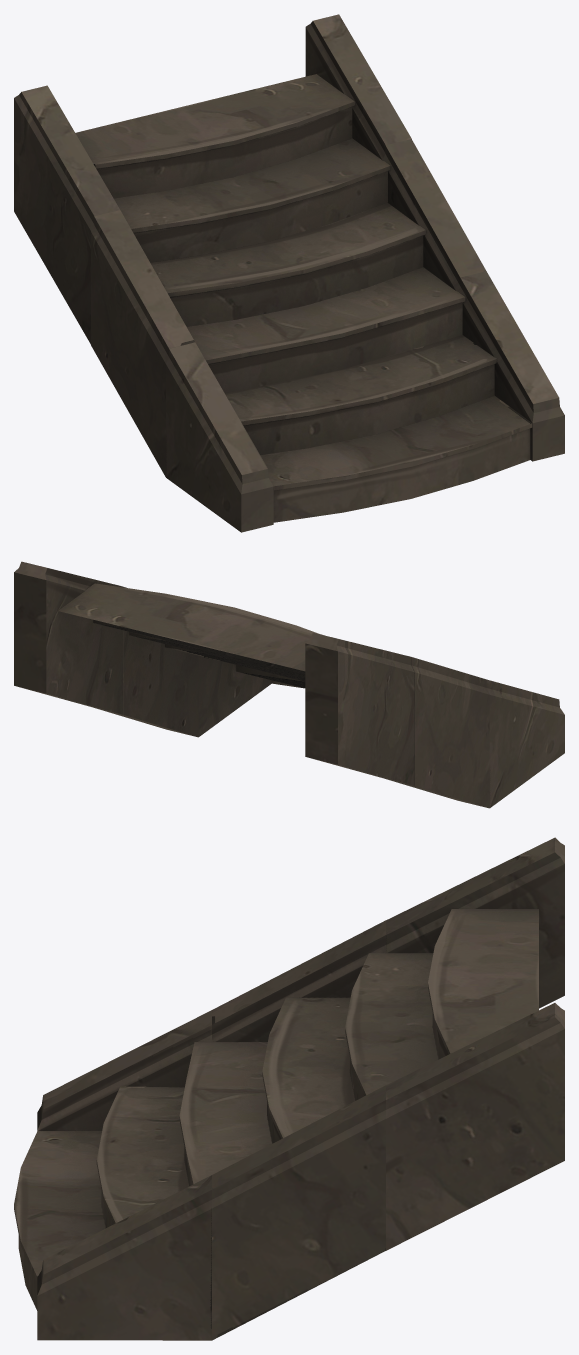
Rendered from ObjStair_1.fbx.
The picture shows the model from 3 angles, top to bottom: view 1: azimuth 30°, elevation 25°; view 2: azimuth 150°, elevation 25°; view 3: azimuth 270°, elevation 25°; orthographic projection. The views are drawn at different scales.
Visible parts, largest first — view 1: Obj_Stair_1_upend, Obj_Stair_1_downend, Obj_Stair_1_middle; view 2: Obj_Stair_1_upend, Obj_Stair_1_middle, Obj_Stair_1_downend; view 3: Obj_Stair_1_upend, Obj_Stair_1_middle, Obj_Stair_1_downend.
Part boxes in pixels (<box>): Obj_Stair_1_upend: <box>14,14,411,344</box>; Obj_Stair_1_downend: <box>166,271,564,532</box>; Obj_Stair_1_middle: <box>91,139,486,476</box>; Obj_Stair_1_upend: <box>14,561,414,785</box>; Obj_Stair_1_middle: <box>94,586,489,808</box>; Obj_Stair_1_downend: <box>198,655,564,807</box>; Obj_Stair_1_upend: <box>345,837,564,1250</box>; Obj_Stair_1_middle: <box>179,920,385,1340</box>; Obj_Stair_1_downend: <box>14,1010,211,1340</box>.
Size of the model in its own units: 1.57 by 1.28 by 1.99.
